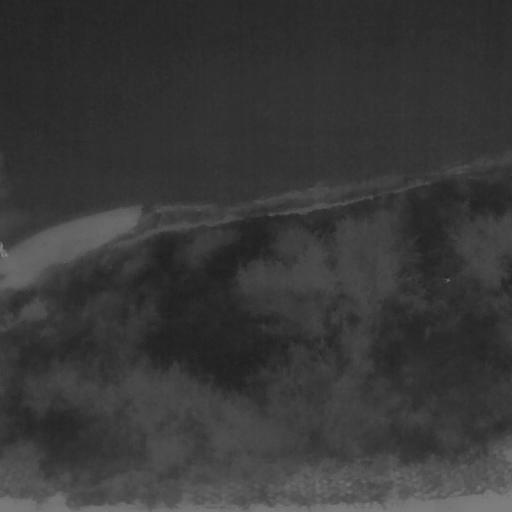uav: (444, 277, 452, 287)
